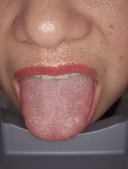tongue: (20, 81, 95, 142)
